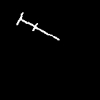double_crochet: (17, 13, 58, 39)
